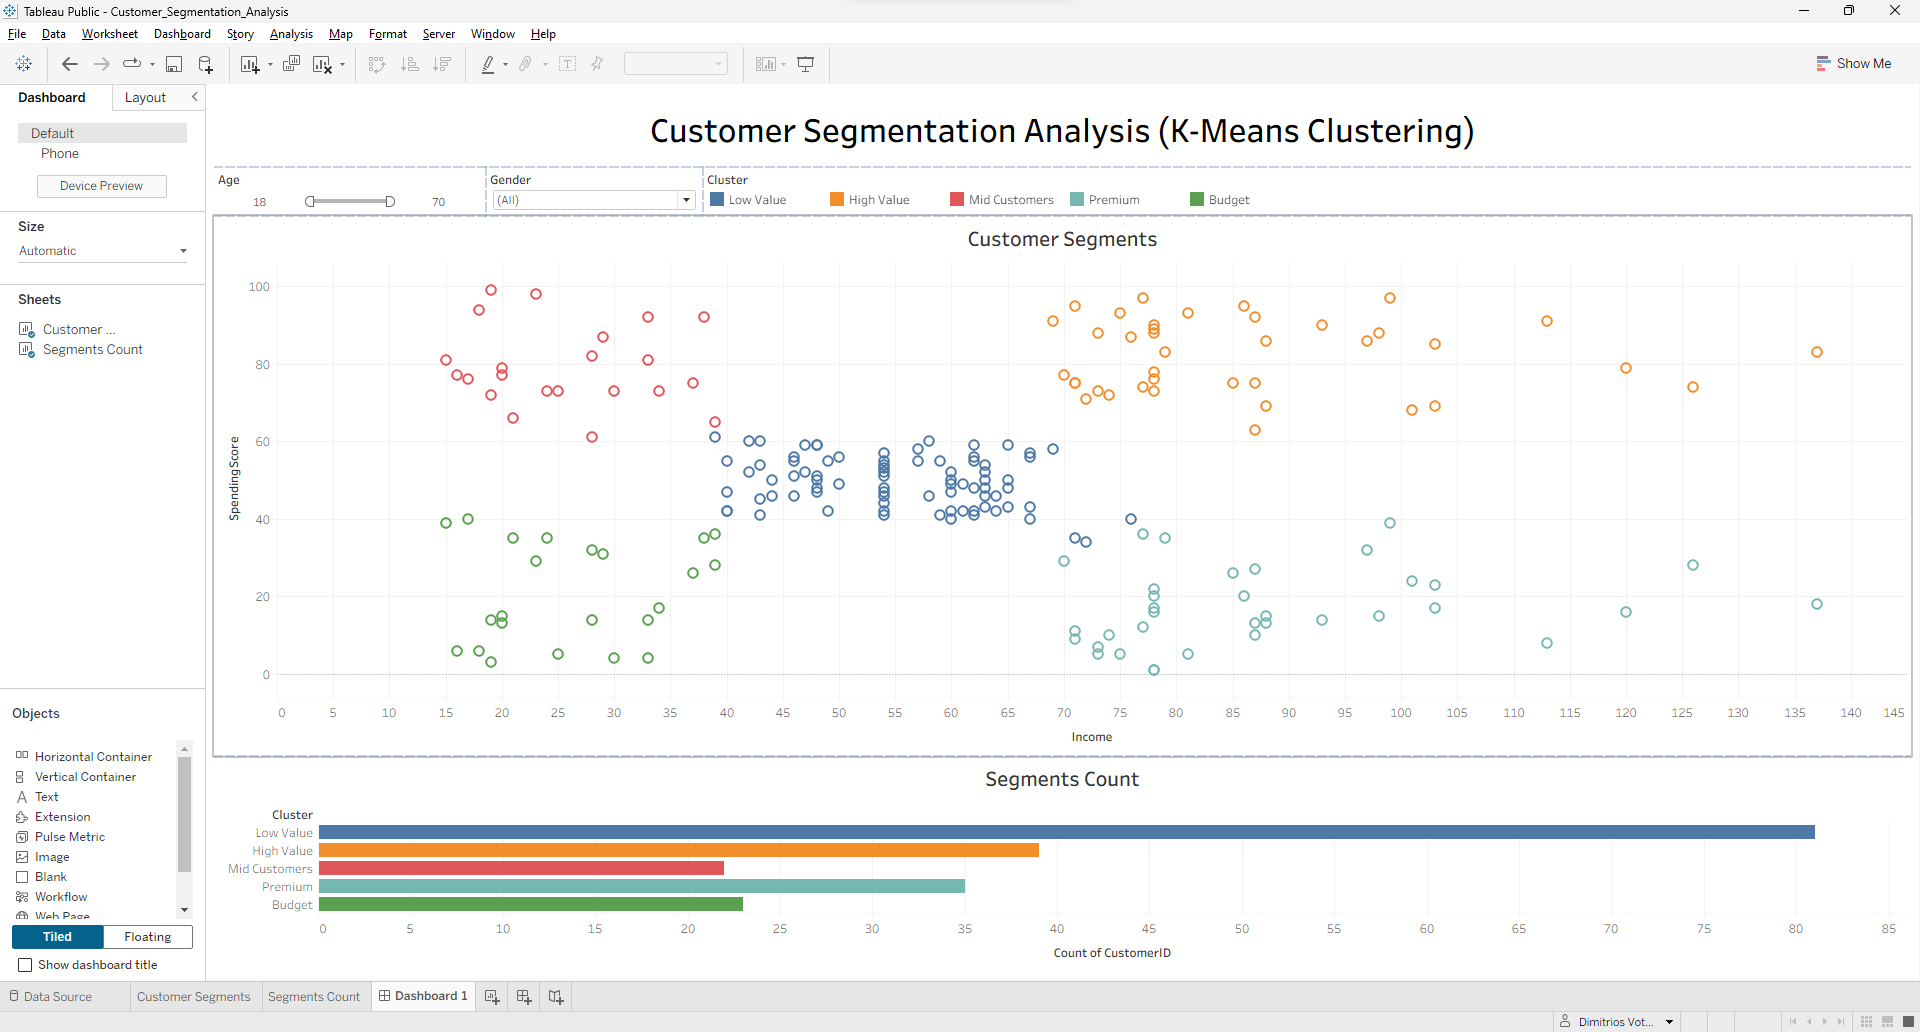

The page's visual inventory and layout, read from the dashboard file:
{"tool":"tableau","page":{"name":"Dashboard 1","canvas":[1000,1000],"units":"permille","ordinal":0},"visuals":[{"type":"text","box":[4.7,8.9,990.6,83.7]},{"type":"filter","title":"Customer Segments","param":"[federated.15gbjuu0qhnrqi0zr4jqt0218bgb].[none:Age:qk]","box":[4.7,92.6,158.8,54.7]},{"type":"filter","title":"Customer Segments","param":"[federated.15gbjuu0qhnrqi0zr4jqt0218bgb].[none:Gender:nk]","box":[163.5,92.6,126.7,54.7]},{"type":"legend","title":"Customer Segments","param":"[federated.15gbjuu0qhnrqi0zr4jqt0218bgb].[none:Cluster:ok]","box":[290.1,92.6,705.2,54.7]},{"type":"worksheet","title":"Customer Segments","mark":"Automatic","rows":["SpendingScore"],"cols":["Income"],"box":[4.7,147.3,990.6,603.2]},{"type":"worksheet","title":"Segments Count","mark":"Automatic","rows":["Cluster"],"cols":["CustomerID"],"box":[4.7,750.5,990.6,240.6]}]}

Visuals, with their boxes on the dashboard's canvas, which has no fixed pixel size, in thousandths of its width and height (x1, y1, x2, y2). These are canvas units, not pixel positions in the 1920x1032 screenshot, which may show the page scaled, cropped or inside an application window:
text: rect(5, 9, 995, 93)
"Customer Segments" filter: rect(5, 93, 164, 147)
"Customer Segments" filter: rect(164, 93, 290, 147)
"Customer Segments" legend: rect(290, 93, 995, 147)
"Customer Segments" worksheet: rect(5, 147, 995, 750)
"Segments Count" worksheet: rect(5, 750, 995, 991)
